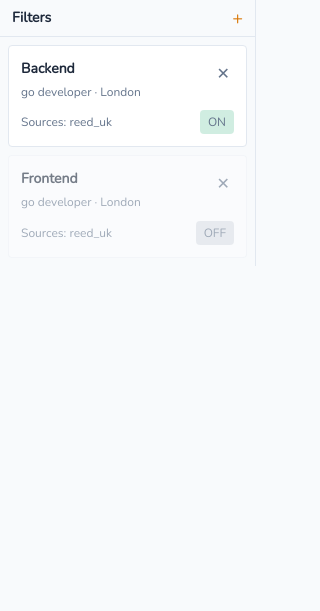
FilterPanel › hides form on cancel
The width and height of the screenshot is (320, 611).
Click the button named "add filter": click(238, 18) [232,9,243,27]
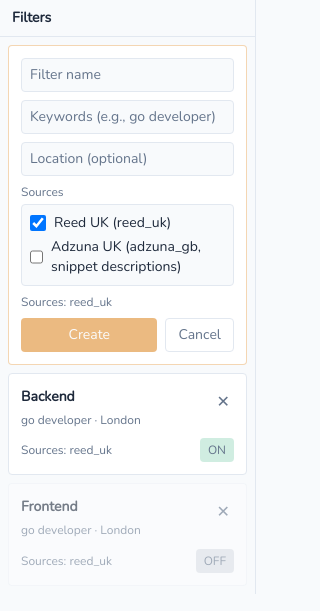
Click the button "Cancel": click(200, 335) [166,318,234,352]
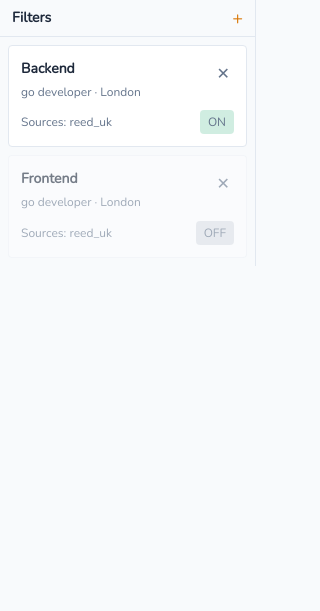
Check: the field labelled "Filter name" is not shown
Check: the button named "add filter" is shown, box [232,9,243,27]
